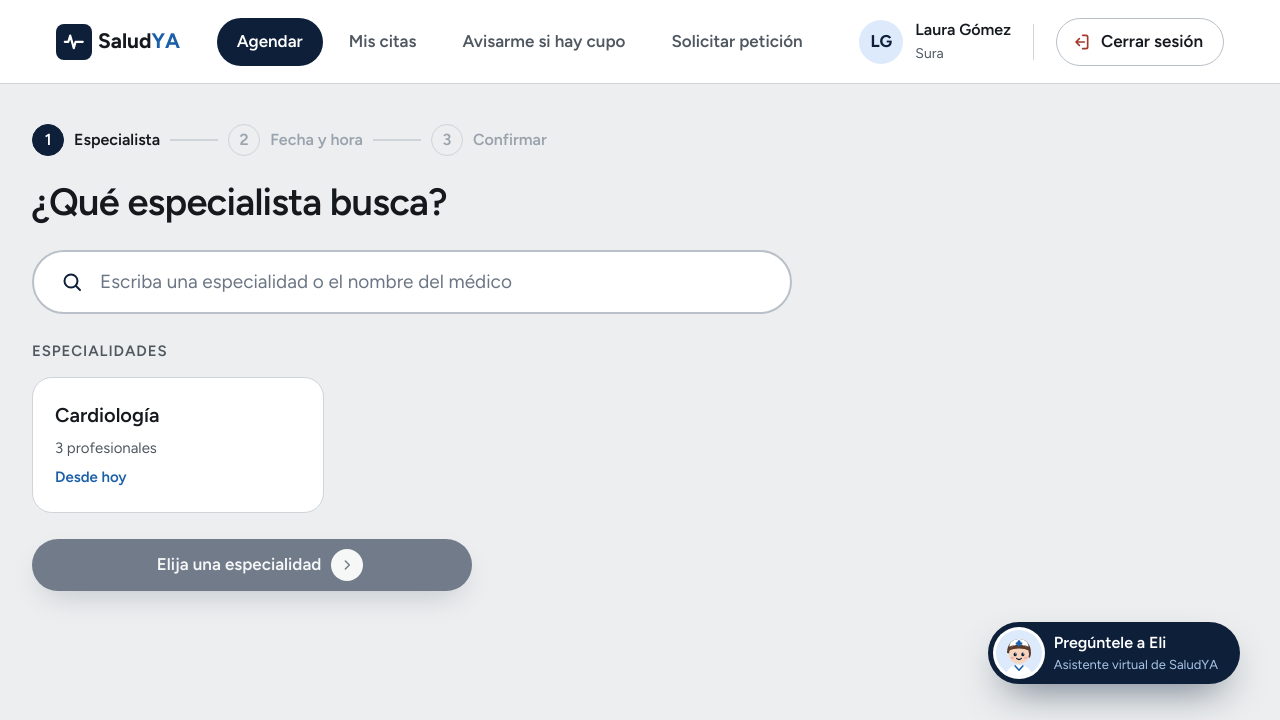
Test: Médicos por EPS › al buscar por nombre, el médico de otra EPS sale en gris y no se puede elegir
Expected: the text "3 profesionales" is shown, [55,437,157,460]
Type "Dr" into the search field named "Buscar una especialidad o un médico".
click(431, 282); type("Dr")  # box [98,252,764,312]
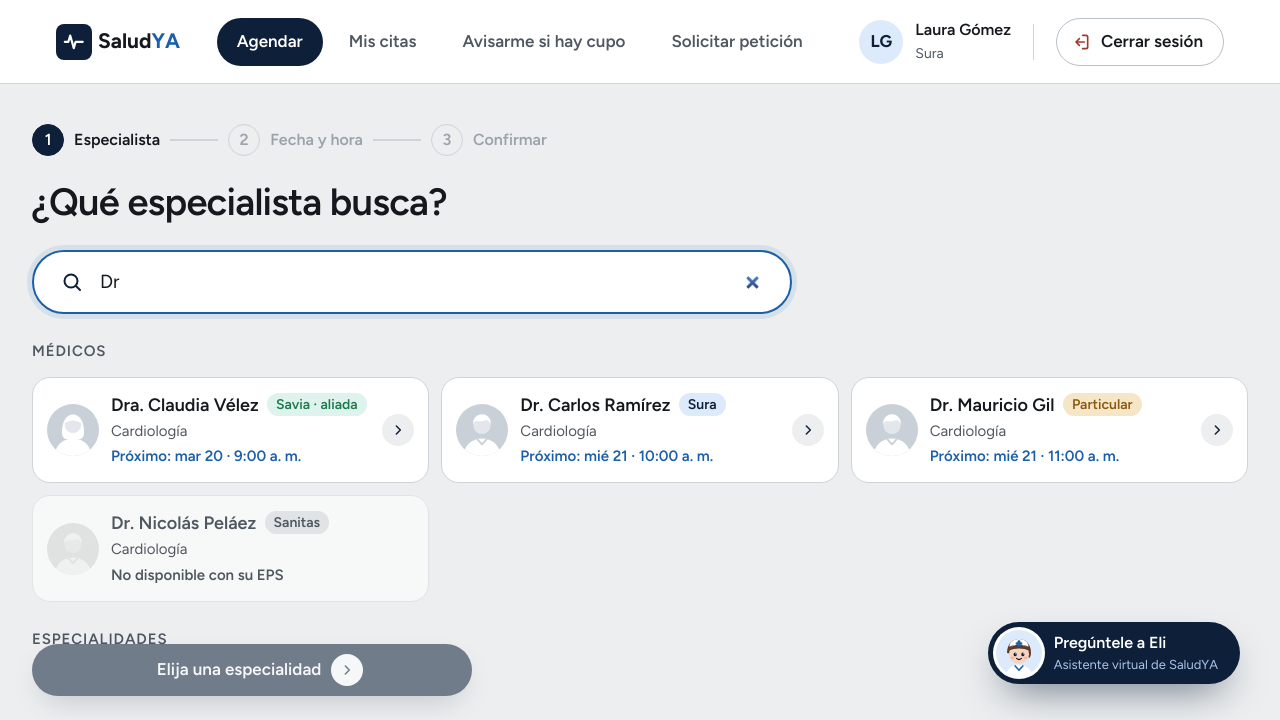
Expected: the button "Nicolás Peláez" is disabled, [32,495,429,602]
Expected: the button "Carlos Ramírez" is enabled, [441,377,839,483]
